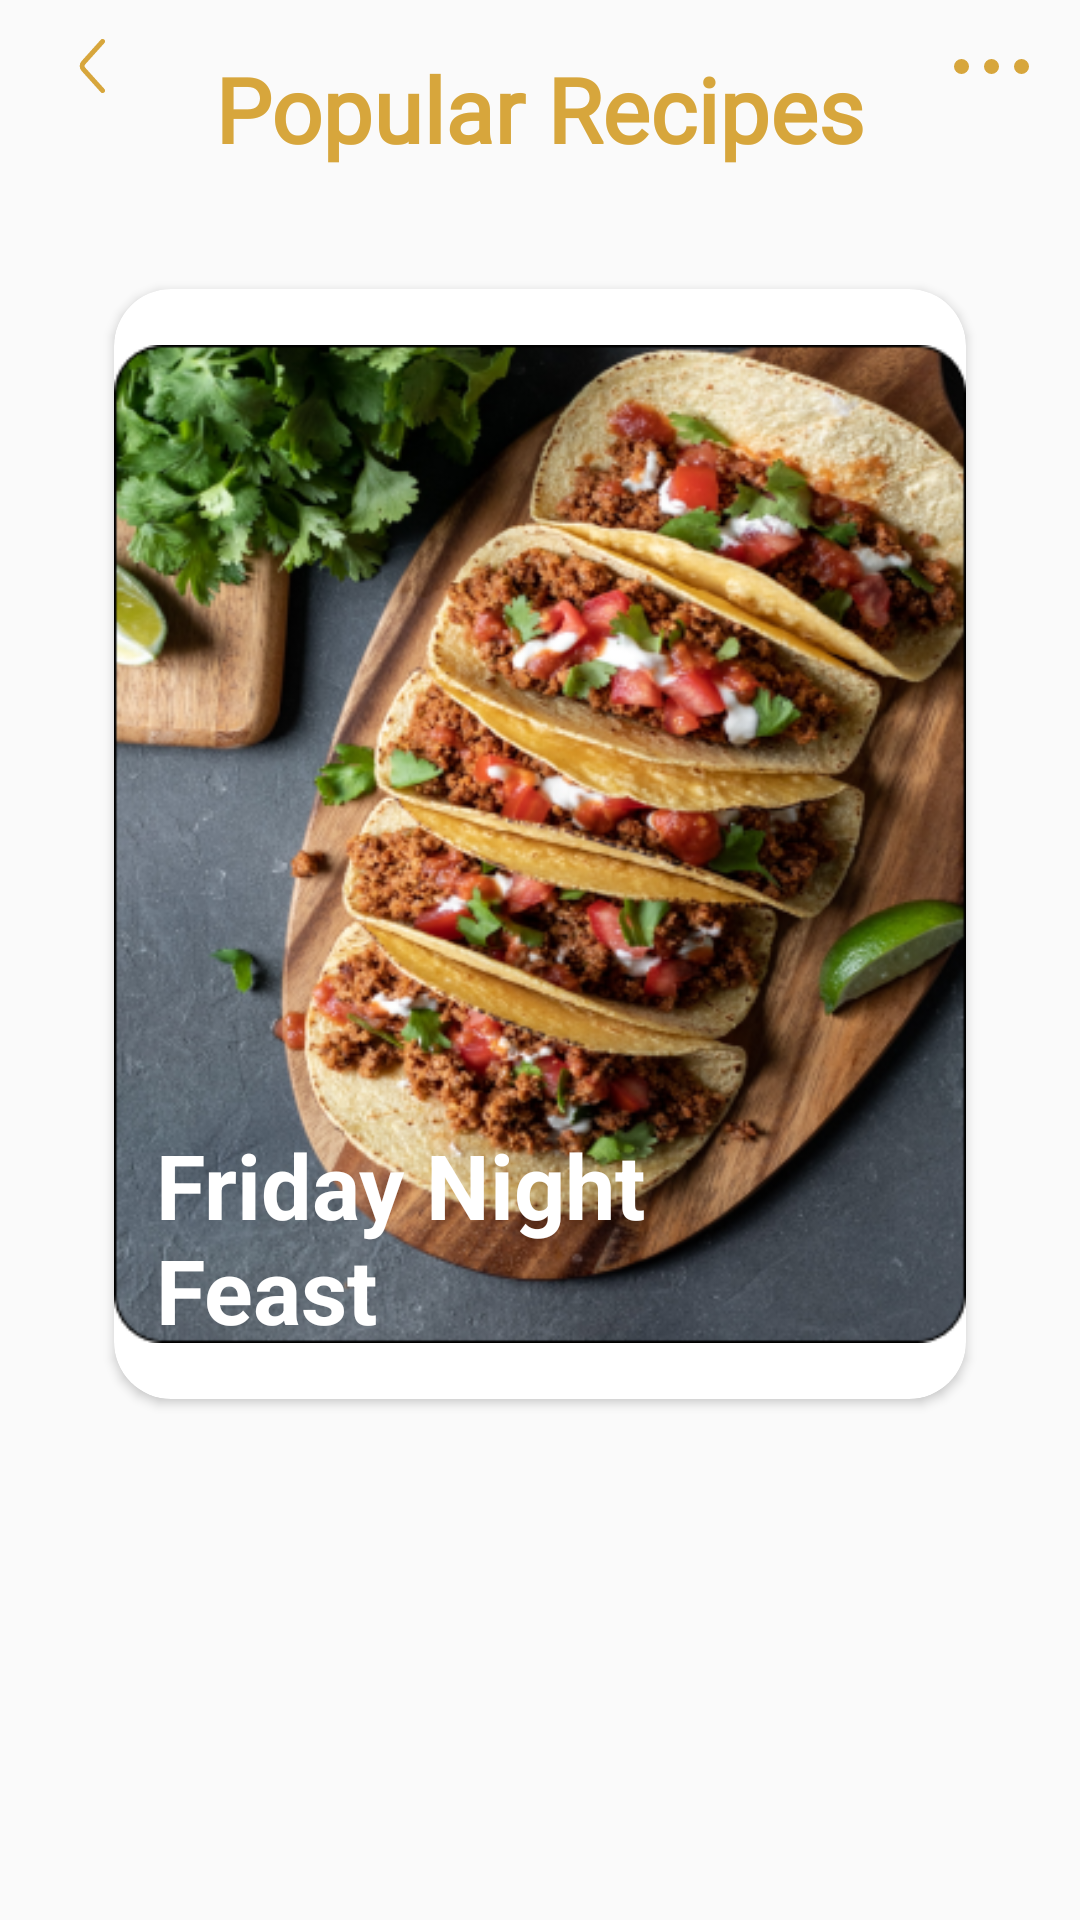

Screen size 1080w x 1920h. Icon name, then its box in pixels as bbox(x1, y1, x2, y2):
back: bbox(79, 39, 105, 93)
